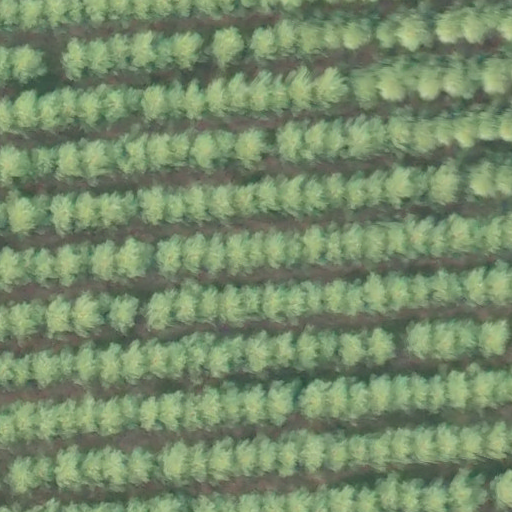eucalipto: (234, 122, 279, 172), (1, 192, 48, 239), (36, 85, 80, 133), (194, 127, 232, 173), (51, 445, 87, 493), (348, 110, 384, 158), (211, 26, 250, 70), (120, 236, 156, 282), (70, 289, 105, 336), (365, 322, 400, 367), (98, 442, 130, 491), (1, 298, 42, 336), (265, 376, 298, 423), (108, 289, 139, 339), (155, 233, 191, 276), (446, 213, 481, 257), (12, 43, 50, 83), (170, 29, 206, 71), (428, 164, 464, 206), (159, 440, 188, 492), (321, 273, 354, 318), (396, 10, 433, 49), (402, 314, 432, 362), (54, 135, 86, 180), (384, 166, 418, 208), (478, 51, 512, 93), (284, 68, 315, 114), (357, 272, 391, 313), (115, 132, 149, 173), (217, 280, 246, 328), (57, 245, 90, 287), (316, 64, 347, 108), (85, 36, 118, 77), (61, 34, 89, 82), (291, 327, 322, 370), (46, 293, 74, 340), (136, 183, 168, 224), (376, 63, 408, 104), (460, 6, 493, 45), (30, 349, 62, 389), (12, 87, 41, 131), (120, 338, 149, 382), (460, 264, 489, 308), (90, 237, 118, 282), (337, 328, 367, 370), (478, 318, 510, 357), (97, 394, 126, 437), (301, 221, 328, 267), (435, 5, 466, 45), (1, 244, 29, 288), (338, 219, 364, 266), (467, 158, 496, 200), (139, 83, 171, 121), (208, 438, 235, 483), (367, 371, 394, 416), (74, 189, 102, 232), (99, 341, 124, 389), (203, 228, 228, 276), (276, 176, 305, 217), (483, 418, 512, 459), (248, 26, 279, 64), (243, 332, 274, 370), (321, 432, 349, 474), (183, 182, 211, 224), (346, 378, 372, 423), (101, 83, 131, 122), (301, 380, 328, 423), (444, 368, 471, 411), (147, 289, 175, 330), (419, 475, 450, 512), (129, 446, 156, 488), (417, 61, 444, 102), (488, 259, 512, 305), (365, 430, 391, 472), (51, 195, 77, 237), (340, 16, 373, 49), (373, 471, 400, 511), (385, 114, 412, 154), (129, 31, 158, 68), (72, 342, 98, 383), (134, 393, 162, 431), (74, 392, 97, 438), (434, 421, 461, 460), (301, 175, 327, 215), (210, 181, 236, 221), (262, 281, 288, 321), (453, 110, 478, 151), (255, 431, 278, 475), (412, 423, 436, 465), (196, 284, 220, 326), (31, 144, 59, 178), (305, 120, 328, 161), (346, 169, 369, 210), (407, 272, 432, 309), (455, 316, 479, 354), (268, 228, 289, 270), (222, 382, 244, 422), (409, 371, 430, 412), (386, 225, 410, 259)
